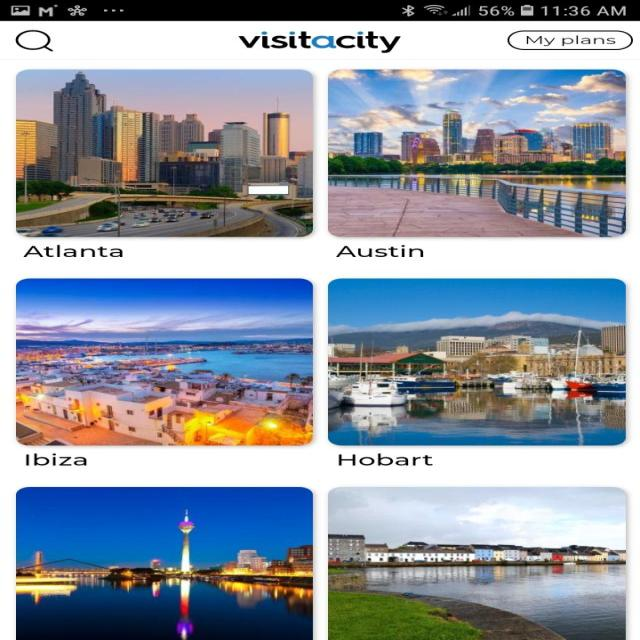Icon: (15, 29, 54, 52)
Image: (327, 69, 626, 237), (327, 278, 626, 445), (16, 69, 313, 237), (16, 278, 313, 445), (327, 486, 626, 640), (15, 486, 313, 640), (237, 31, 401, 53)
Text: (338, 452, 433, 466), (23, 245, 124, 257), (335, 244, 423, 257), (25, 452, 87, 466)
TextButton: (507, 30, 633, 50)
